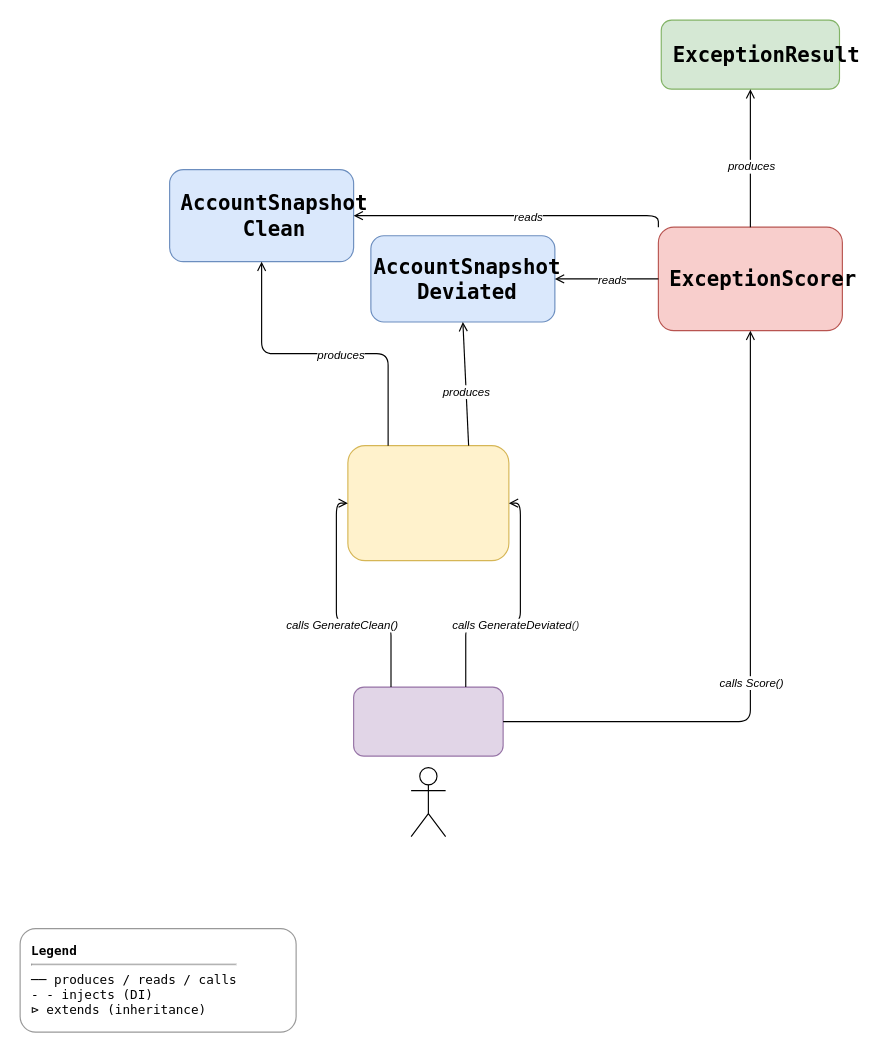
This 880x1052 diagram has some shape labels left out. Here are the shapes that lost their labels. From the top down, the centre of each, then its label:
(428,502): DataGenerator
(427,721): DataService
(428,801): Actor
